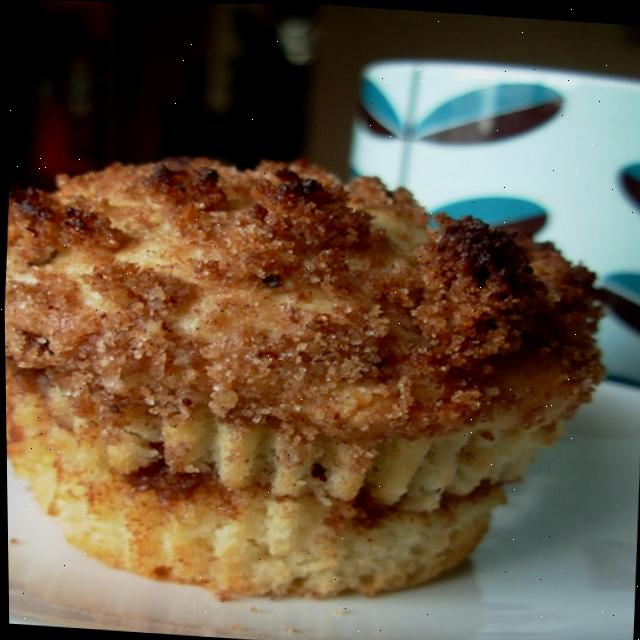炸货点心: (1, 60, 627, 634)
面包点心: (1, 60, 627, 634)
